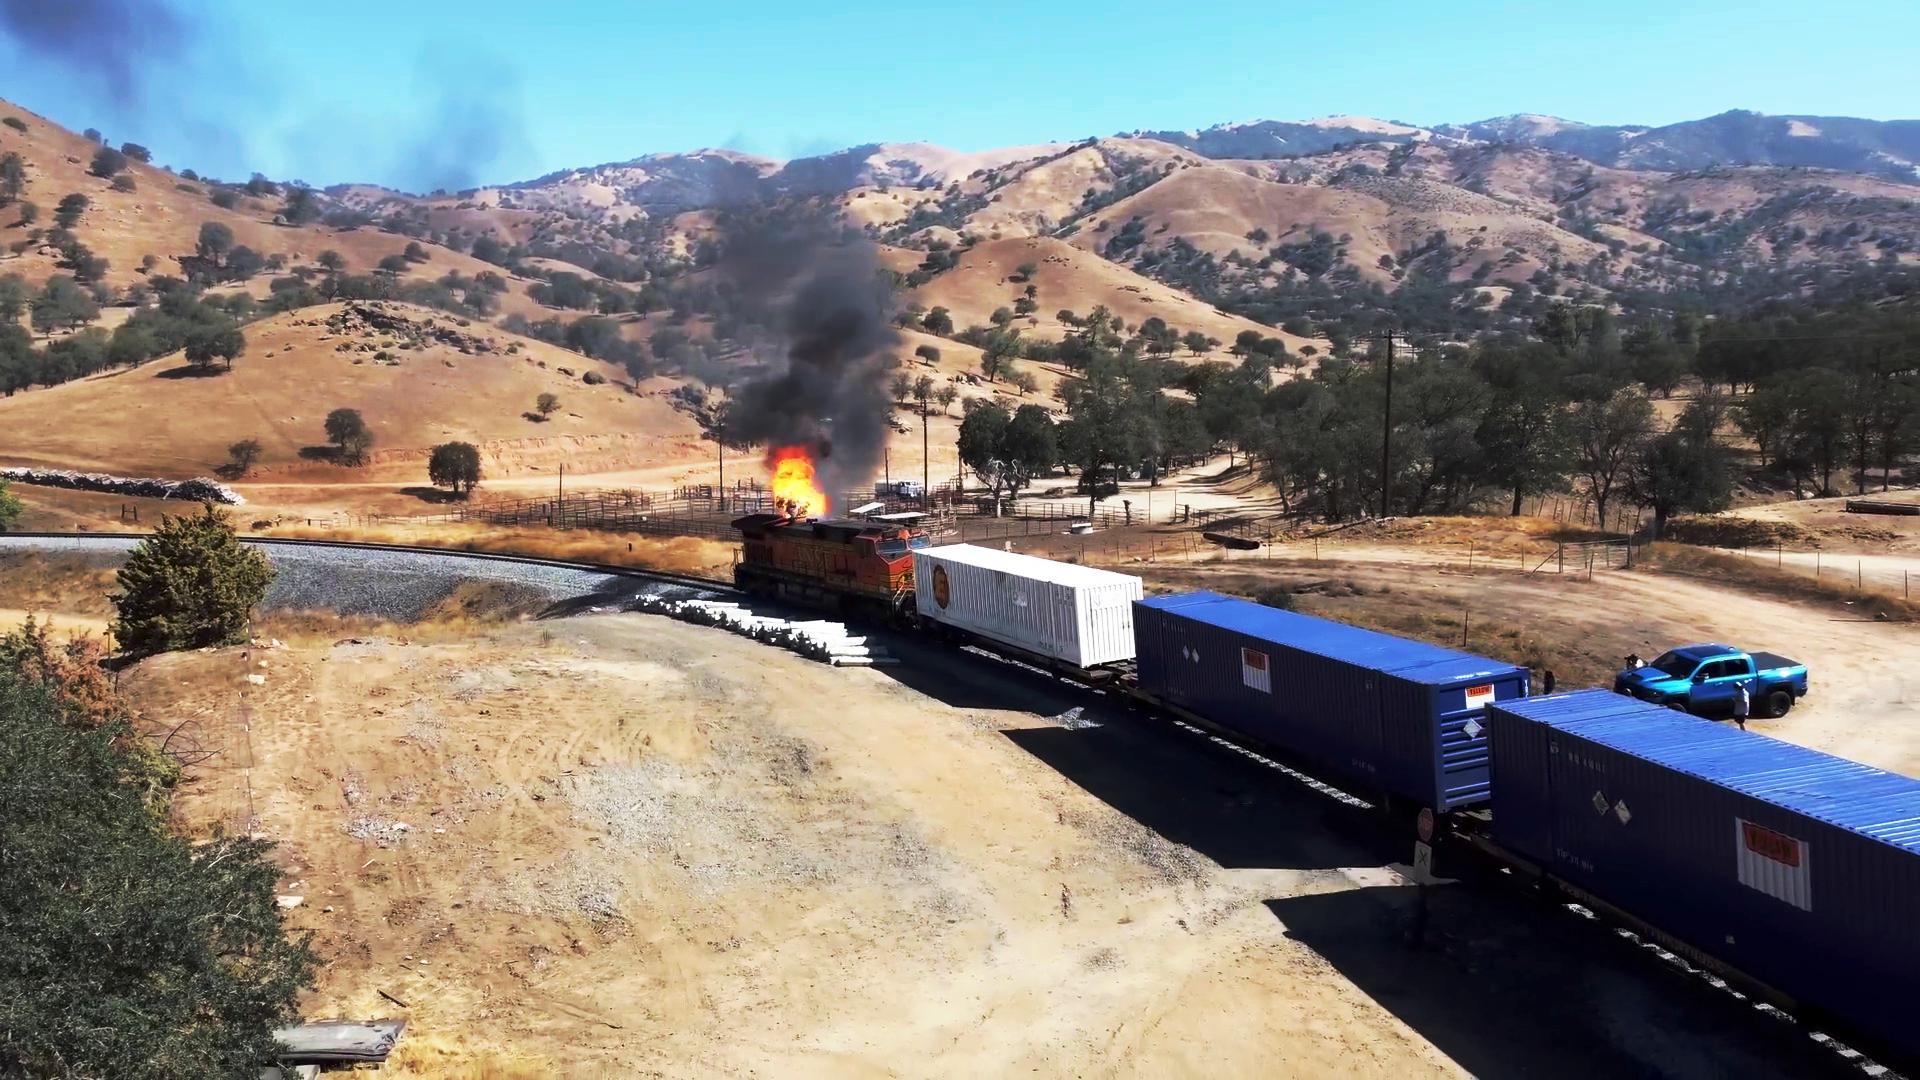fire: (773, 463, 829, 519)
smoke: (783, 201, 903, 453)
